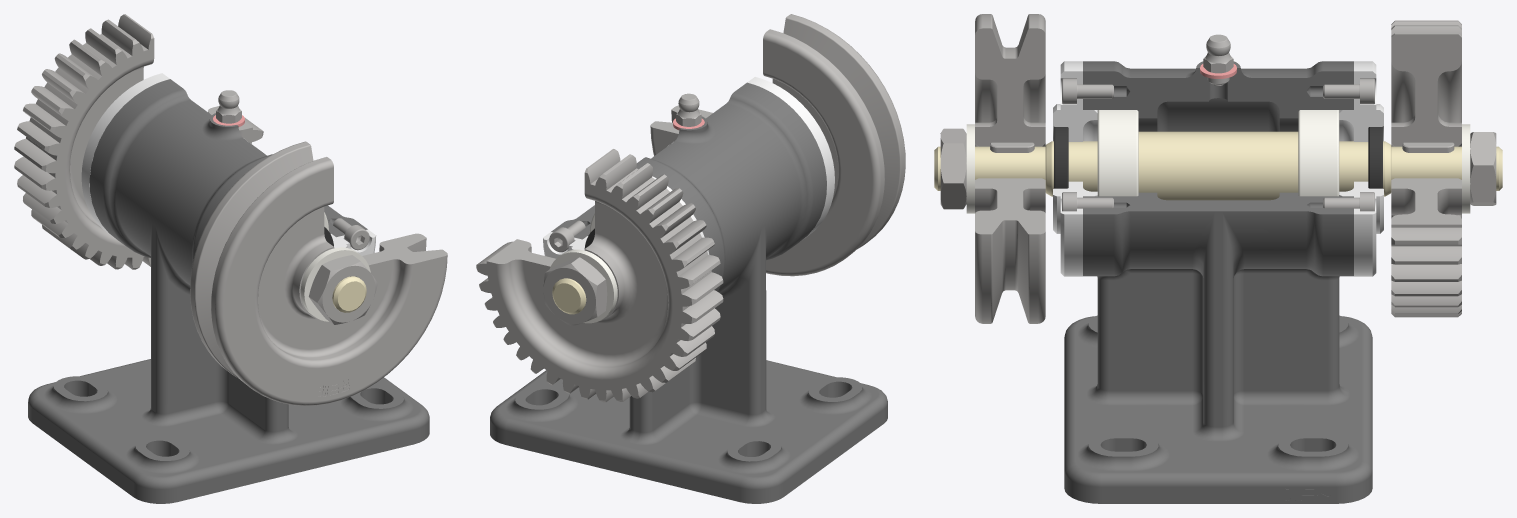
The picture shows the model from 3 angles, left to right: view 1: azimuth 30°, elevation 25°; view 2: azimuth 150°, elevation 25°; view 3: azimuth 270°, elevation 25°; orthographic projection. The views are drawn at different scales.
Parts seen in each view (by area): view 1: 솔리드1 (×5), Solid1 (×4); view 2: 솔리드1 (×6), Solid1 (×4); view 3: 솔리드1 (×6), Solid1 (×13).
Part boxes in pixels (x1=…): 솔리드1 (×5): x1=14, y1=14, x2=447, y2=503; Solid1 (×4): x1=216, y1=90, x2=377, y2=324; 솔리드1 (×6): x1=476, y1=14, x2=905, y2=503; Solid1 (×4): x1=543, y1=93, x2=701, y2=326; 솔리드1 (×6): x1=934, y1=14, x2=1502, y2=503; Solid1 (×13): x1=940, y1=34, x2=1496, y2=213.
Bounding box in the file's own units: 0.105 × 0.1167 × 0.153.
